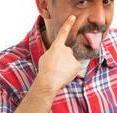up: (36, 14, 84, 85)
